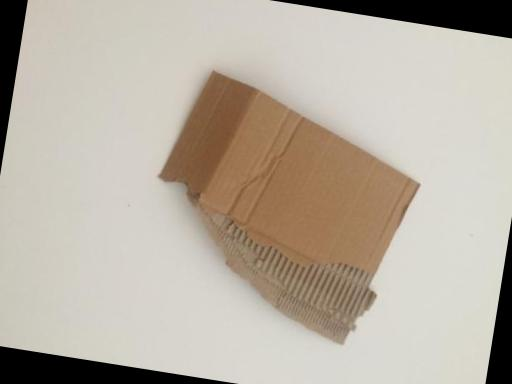cardboard: (125, 59, 466, 360)
